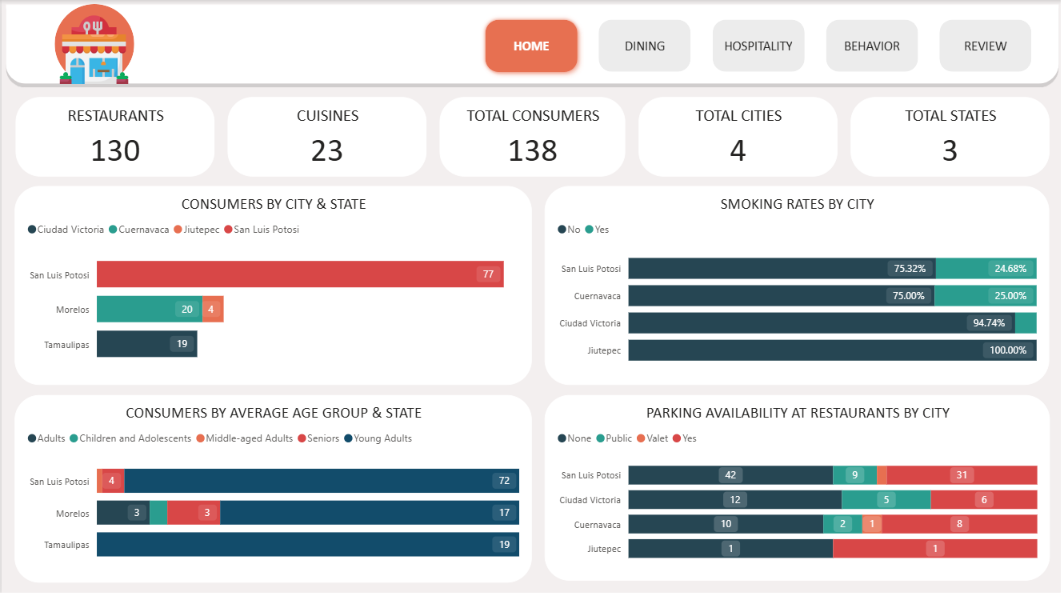

The dashboard page shown, as its layout file describes it:
{"tool":"powerbi","page":{"name":"HOME","canvas":[1280,720],"ordinal":0},"visuals":[{"type":"shape","box":[0,0,1280.5,105.9],"z":0},{"type":"card","title":"TOTAL CITIES","fields":{"Values":["Count(restaurants.City)"]},"box":[768.4,116.5,240,96],"z":1000},{"type":"card","title":"RESTAURANTS","fields":{"Values":["Count(restaurants.Restaurant_ID)"]},"box":[16.4,116.5,240,96],"z":2000},{"type":"card","title":"CUISINES","fields":{"Values":["Count(restaurant_cuisines.Cuisine)"]},"box":[272.4,116.5,240,96],"z":3000},{"type":"card","title":"TOTAL CONSUMERS","fields":{"Values":["Count(consumer_preferences.Consumer_ID)"]},"box":[528.4,116.5,224,96],"z":4000},{"type":"card","title":"TOTAL STATES","fields":{"Values":["Count(restaurants.State)"]},"box":[1024.4,116.5,240,96],"z":5000},{"type":"pageNavigator","box":[576,15.5,677.6,79.1],"z":6000},{"type":"barChart","title":"CONSUMERS BY CITY & STATE","fields":{"Category":["consumers.State"],"Series":["consumers.City"],"Y":["CountNonNull(consumers.Consumer_ID)"]},"box":[15.7,224.1,624.1,239.8],"z":7000},{"type":"hundredPercentStackedBarChart","title":"CONSUMERS BY AVERAGE AGE GROUP & STATE","fields":{"Category":["consumers.State"],"Series":["consumers.AgeGroup"],"Y":["CountNonNull(consumers.Consumer_ID)"]},"box":[15.7,477.1,624.1,226.5],"z":8000},{"type":"hundredPercentStackedBarChart","title":"SMOKING RATES BY CITY","fields":{"Category":["consumers.City"],"Series":["consumers.Smoker"],"Y":["CountNonNull(consumers.Consumer_ID)"]},"box":[655.4,224.1,608.4,239.8],"z":9000},{"type":"hundredPercentStackedBarChart","title":"PARKING AVAILABILITY AT RESTAURANTS BY CITY","fields":{"Category":["restaurants.City"],"Series":["restaurants.Parking"],"Y":["CountNonNull(restaurants.Restaurant_ID)"]},"box":[655.4,477.1,609.6,224.1],"z":10000},{"type":"shape","box":[63.7,4.4,96.2,96.7],"z":11000},{"type":"image","box":[56,9.3,111.5,101.1],"z":12000}]}

Visuals, with their boxes in screenshot pixels (x1, y1, x2, y2), scaled from the page's 1280x720 canvas onto the 1061x593 screenshot:
shape: x1=0, y1=0, x2=1060, y2=87
"TOTAL CITIES" card: x1=637, y1=96, x2=836, y2=175
"RESTAURANTS" card: x1=14, y1=96, x2=213, y2=175
"CUISINES" card: x1=226, y1=96, x2=425, y2=175
"TOTAL CONSUMERS" card: x1=438, y1=96, x2=624, y2=175
"TOTAL STATES" card: x1=849, y1=96, x2=1048, y2=175
pageNavigator: x1=477, y1=13, x2=1039, y2=78
"CONSUMERS BY CITY & STATE" barChart: x1=13, y1=185, x2=530, y2=382
"CONSUMERS BY AVERAGE AGE GROUP & STATE" hundredPercentStackedBarChart: x1=13, y1=393, x2=530, y2=579
"SMOKING RATES BY CITY" hundredPercentStackedBarChart: x1=543, y1=185, x2=1048, y2=382
"PARKING AVAILABILITY AT RESTAURANTS BY CITY" hundredPercentStackedBarChart: x1=543, y1=393, x2=1049, y2=578
shape: x1=53, y1=4, x2=133, y2=83
image: x1=46, y1=8, x2=139, y2=91
